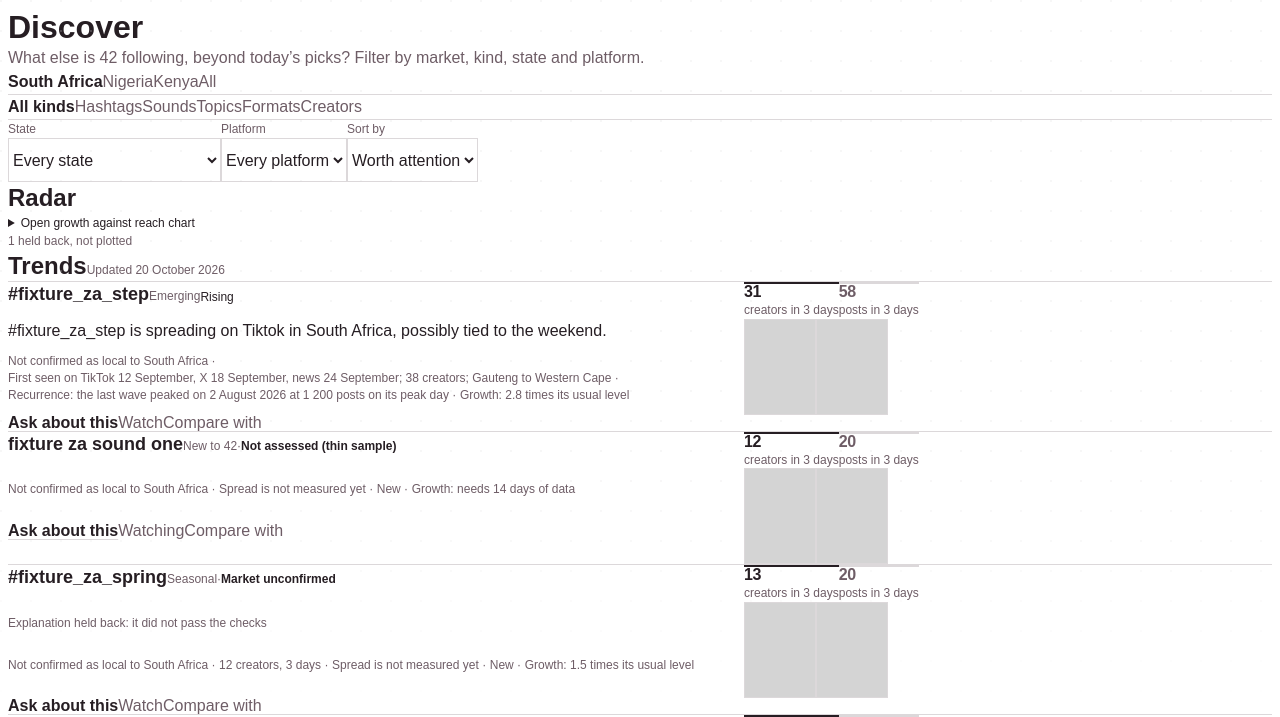
Test: with the watch write, Watching on a watched card points to Alerts and writes nothing
Click the button "Watching".
click(151, 531)  # box [118,523,184,539]
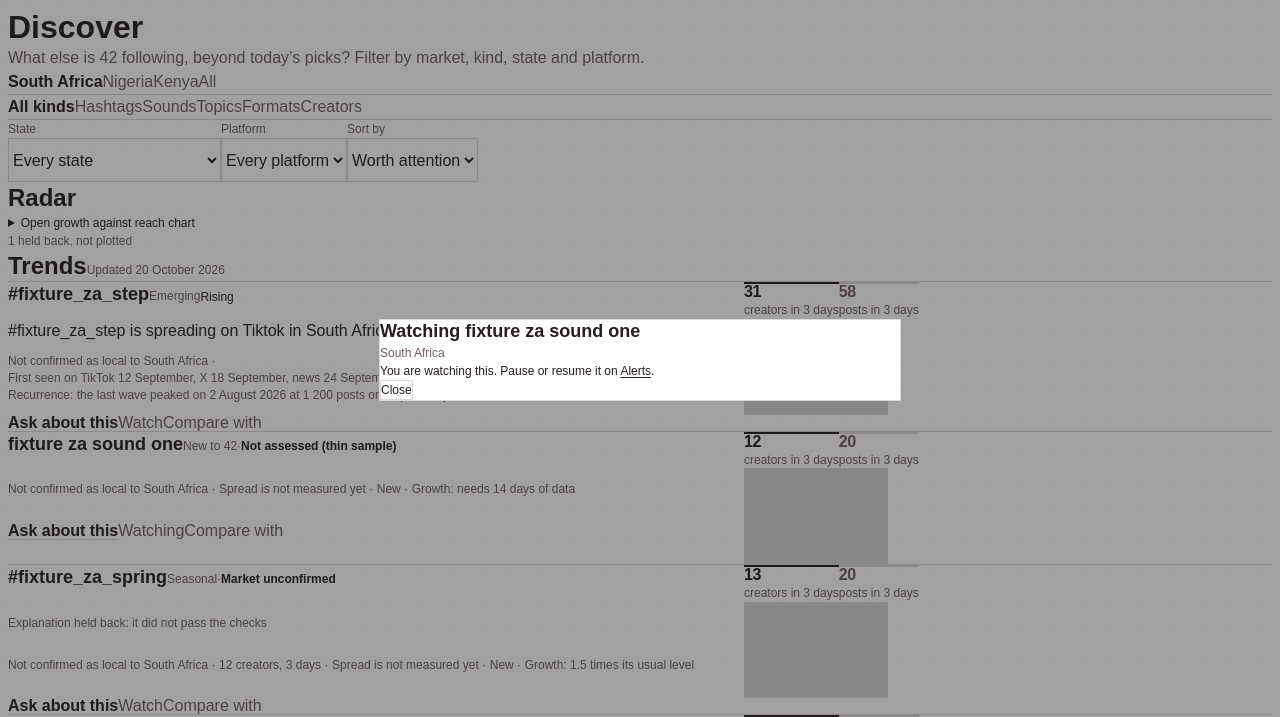
Result: the dialog shows "You are watching this" at [380,364,620,378]
Click the button "Close".
click(396, 390)  # box [380,380,413,400]
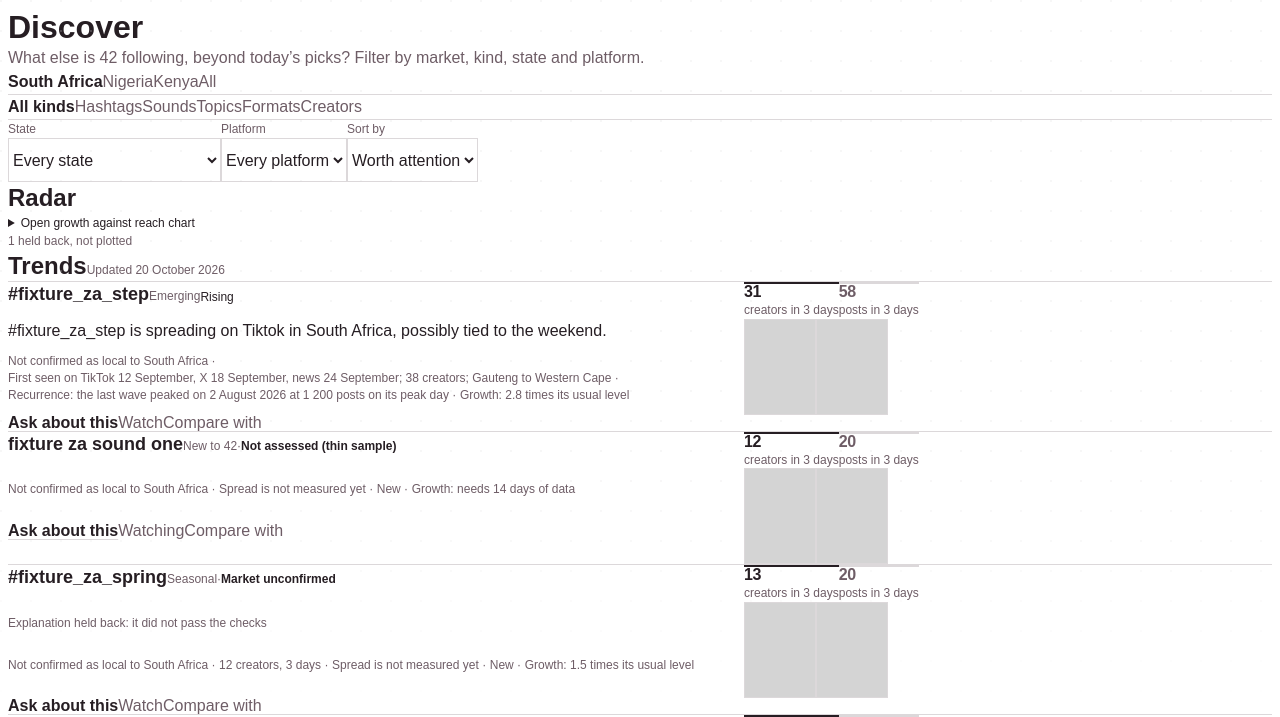
Result: the dialog is gone
